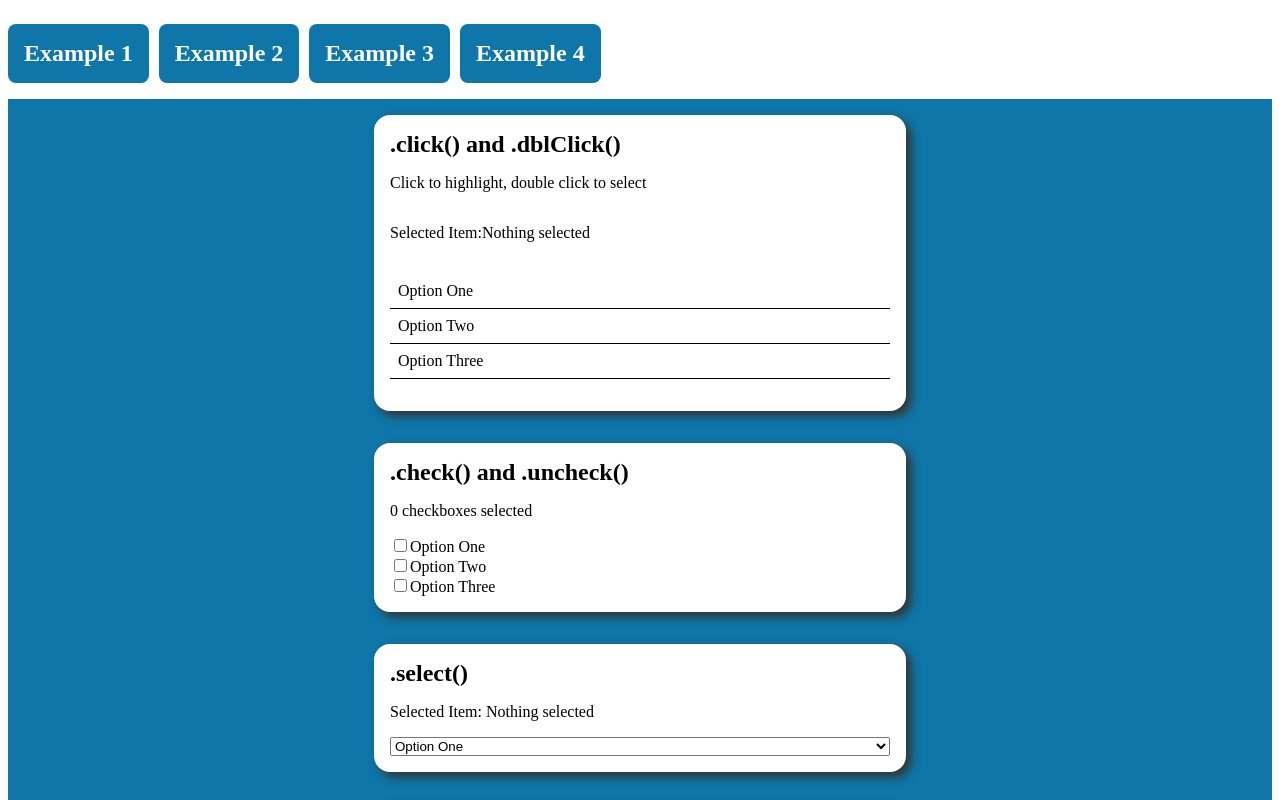
Test: Basic page interactions › Double click › sets header name
Double-click the list item "Option Two" at point(640, 327), box [390, 309, 890, 344]
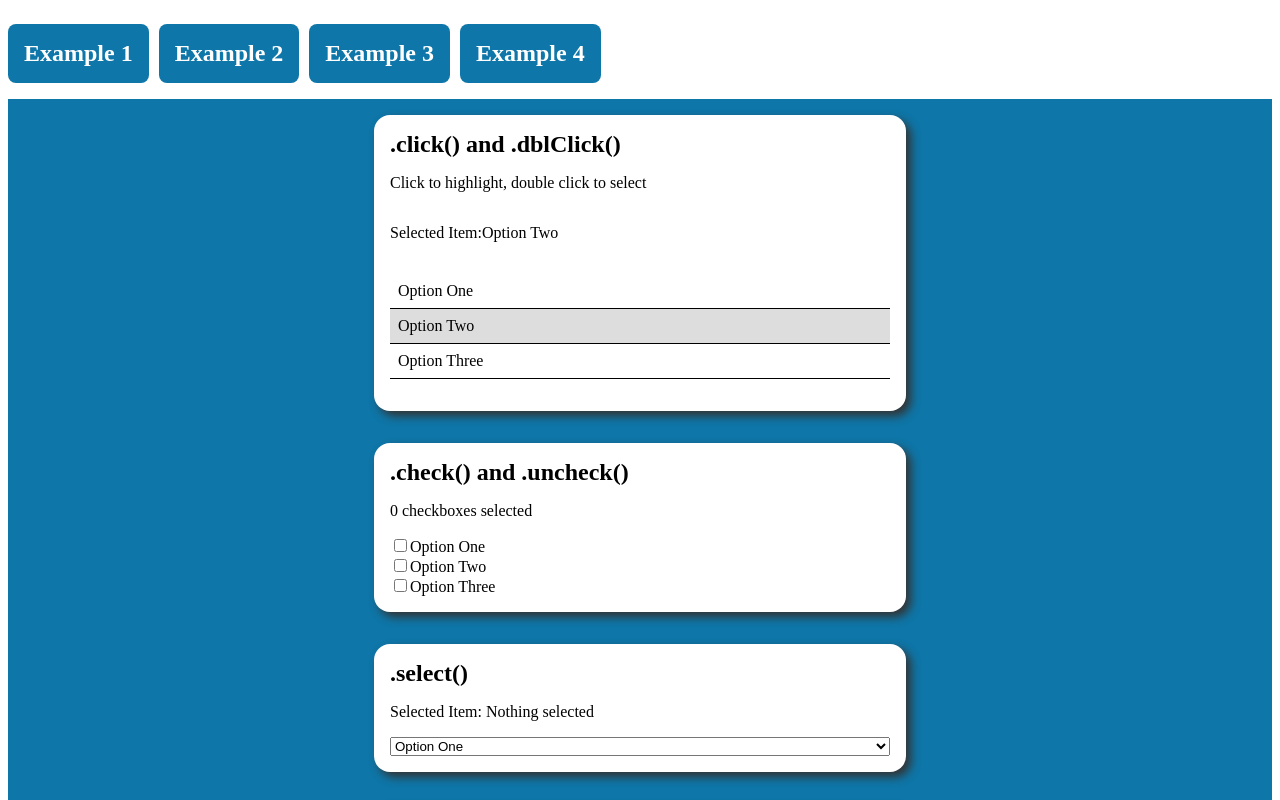
Now the text with test id "box-1-selected-name" reads "Option Two", box [482, 224, 558, 241]
